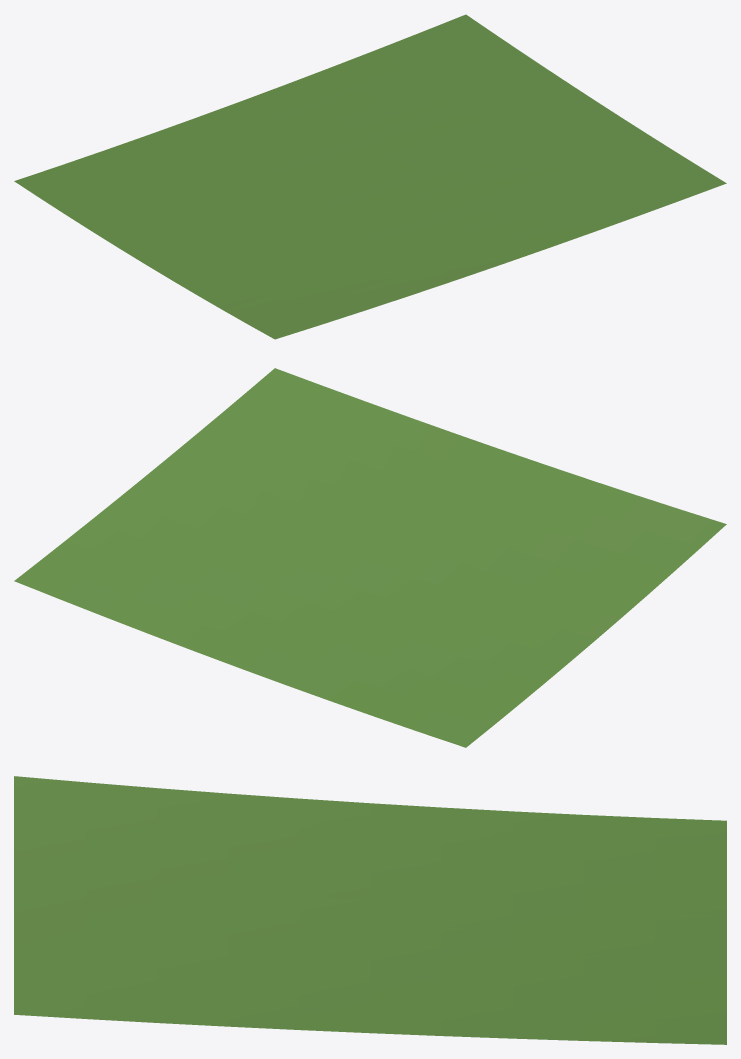
File: terrain-19-13.gltf
3 views of the same model, one above another, from view 1: azimuth 30°, elevation 25°; view 2: azimuth 150°, elevation 25°; view 3: azimuth 270°, elevation 25° (orthographic). The views are drawn at different scales.
Bounding box in the file's own units: 50 × 8.3 × 50.
